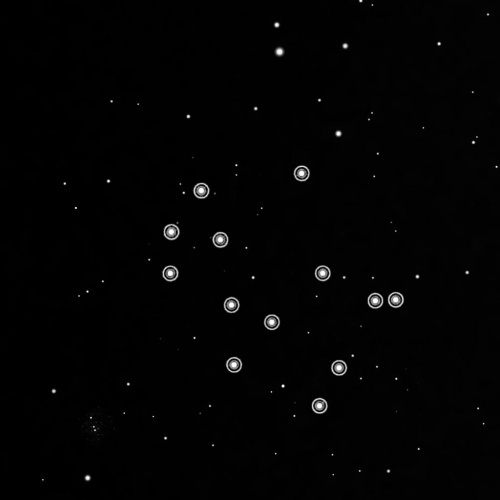gemini: (147, 162, 406, 419)
